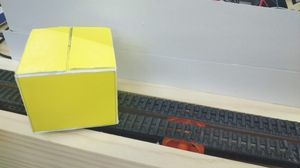box4: (12, 24, 121, 134)
